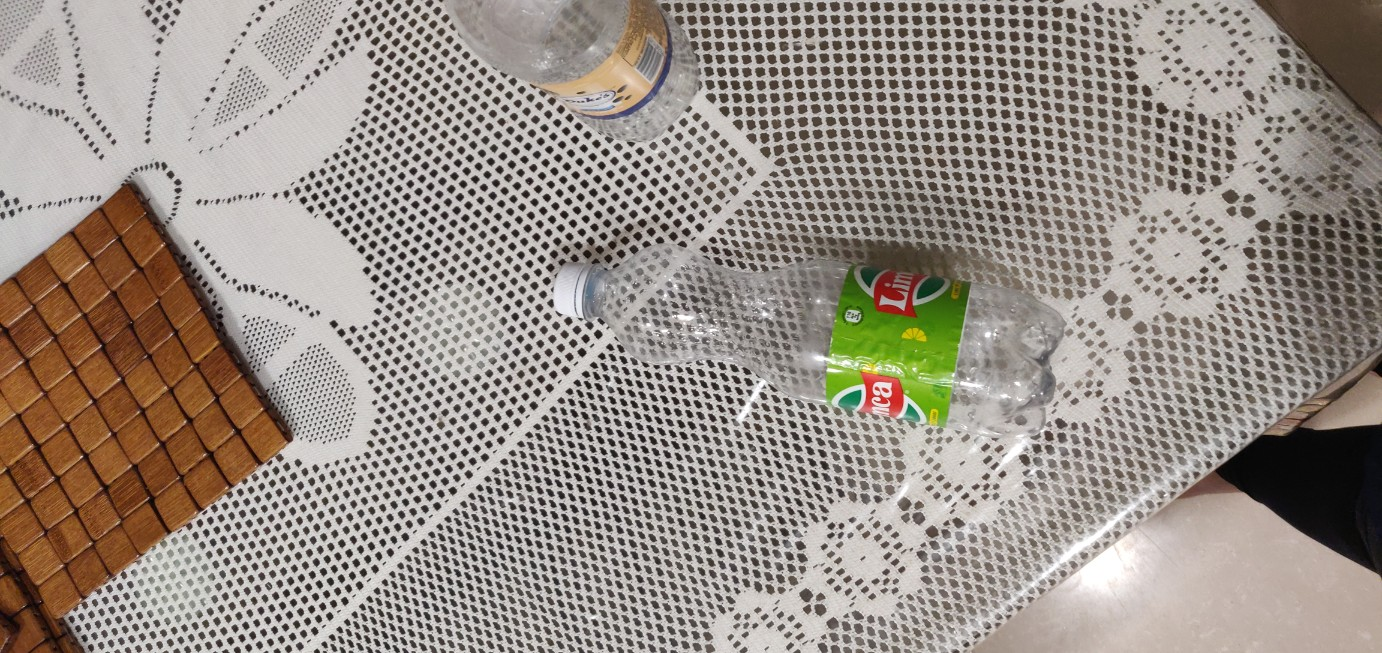Electronics: (524, 223, 1104, 452)
